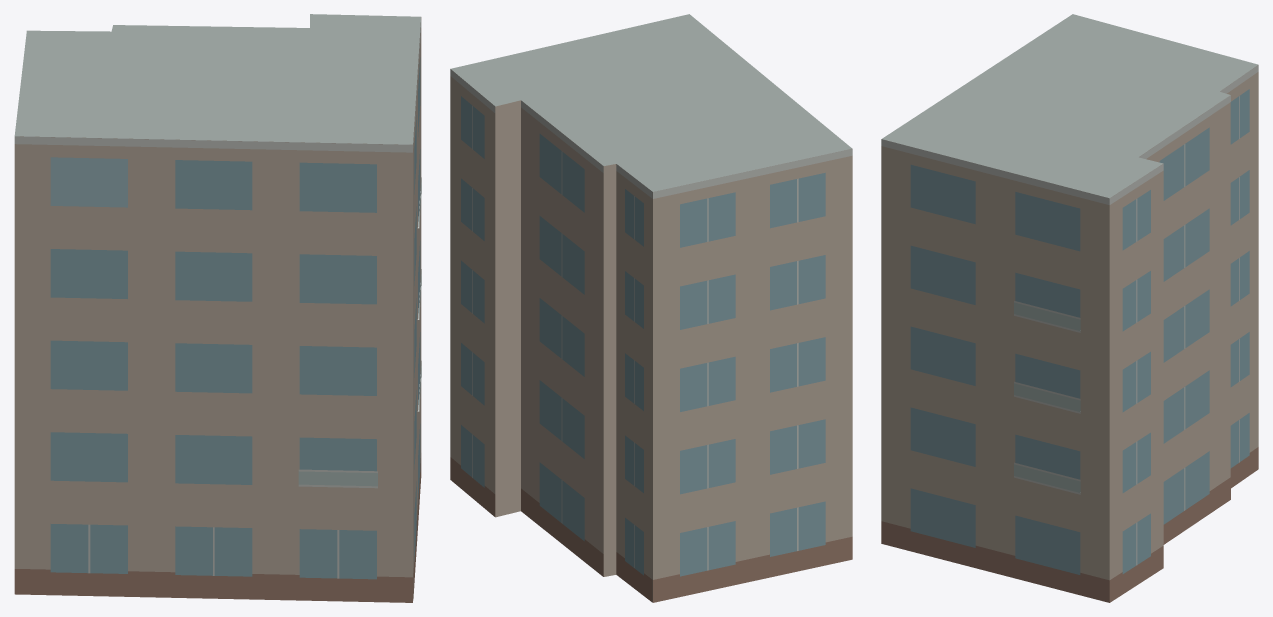
File: survey-upis-32749726.glb
3 views of the same model, side by side, from view 1: azimuth 30°, elevation 25°; view 2: azimuth 150°, elevation 25°; view 3: azimuth 270°, elevation 25° (orthographic). The views are drawn at different scales.
Parts seen in each view (by area): view 1: survey-upis-32749726.tmp; view 2: survey-upis-32749726.tmp; view 3: survey-upis-32749726.tmp.
Part boxes in pixels (x1,y1,x2,y2): survey-upis-32749726.tmp: (14,14,421,602); survey-upis-32749726.tmp: (450,14,852,602); survey-upis-32749726.tmp: (881,14,1258,602).
Size of the model in its own units: 13.87 by 14.2 by 12.
